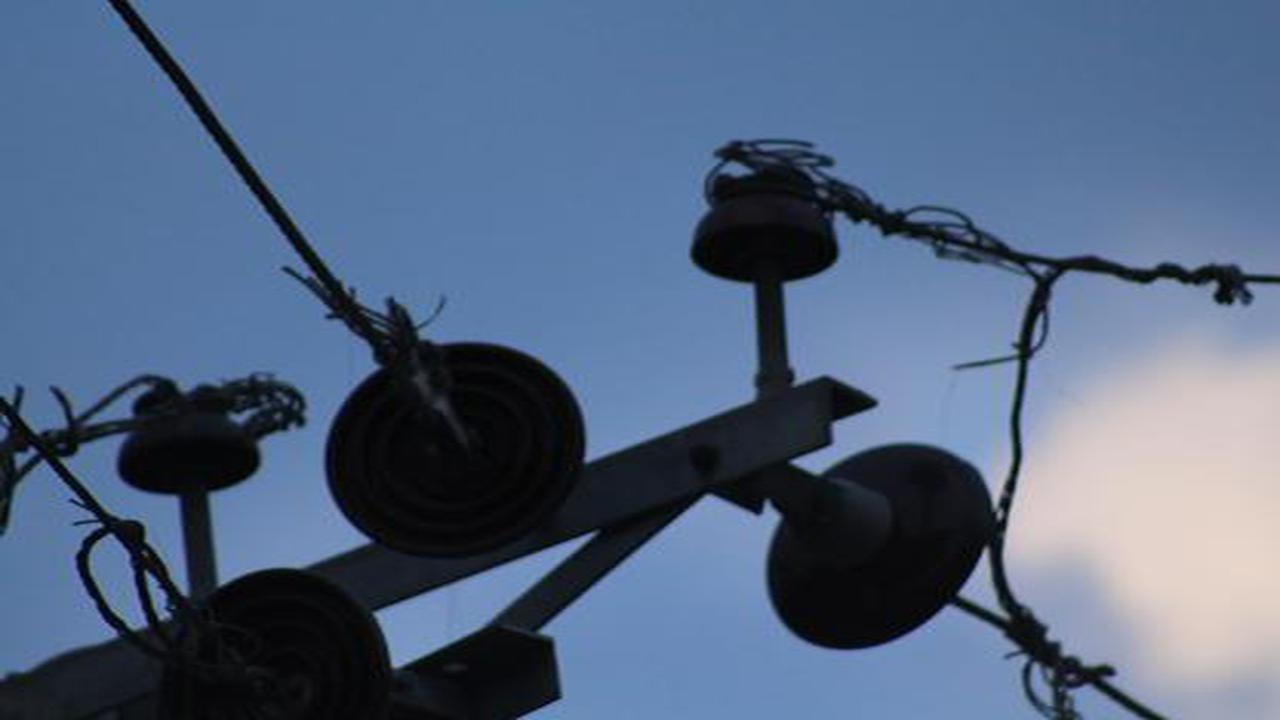insulator_disc: (321, 338, 592, 556), (757, 431, 1004, 658)
insulator_pin: (685, 161, 845, 296), (117, 378, 266, 495)
